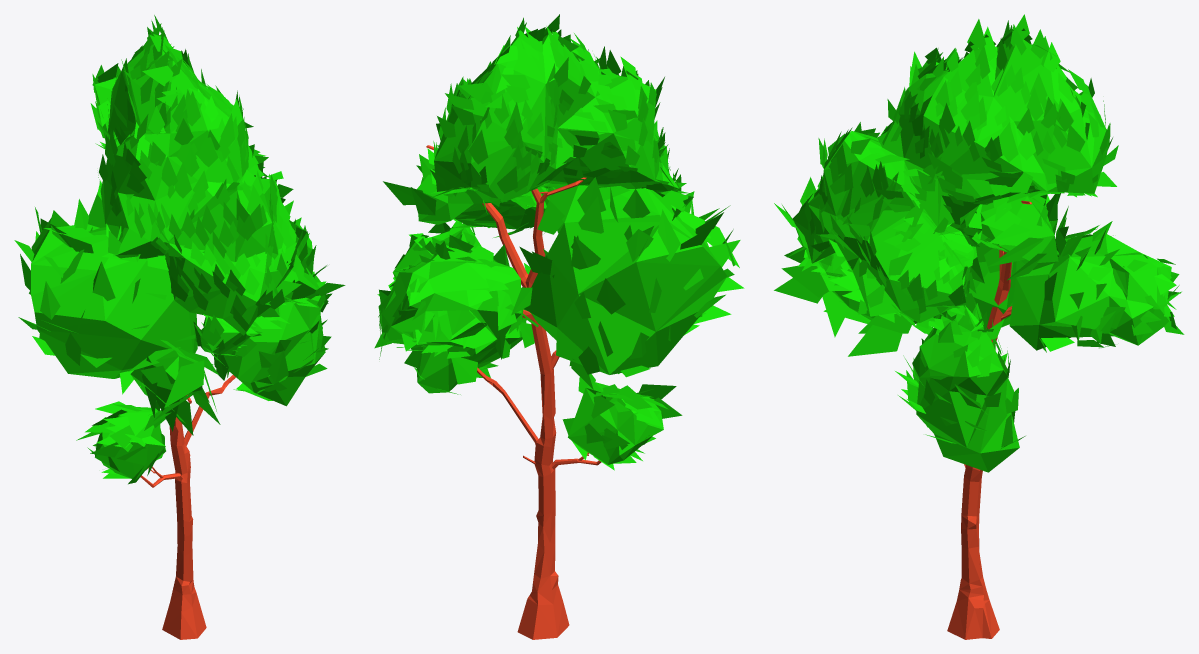
File: SM_Tree_Birch_A.fbx
3 views of the same model, side by side, from view 1: azimuth 30°, elevation 25°; view 2: azimuth 150°, elevation 25°; view 3: azimuth 270°, elevation 25° (orthographic). The views are drawn at different scales.
Parts seen in each view (by area): view 1: SM_Tree_Birch_A; view 2: SM_Tree_Birch_A; view 3: SM_Tree_Birch_A.
Part boxes in pixels (x1,y1,x2,y2): SM_Tree_Birch_A: (14, 15, 345, 639); SM_Tree_Birch_A: (374, 14, 744, 639); SM_Tree_Birch_A: (774, 14, 1184, 639).
Size of the model in its own units: 6.33 by 11.26 by 6.83.
